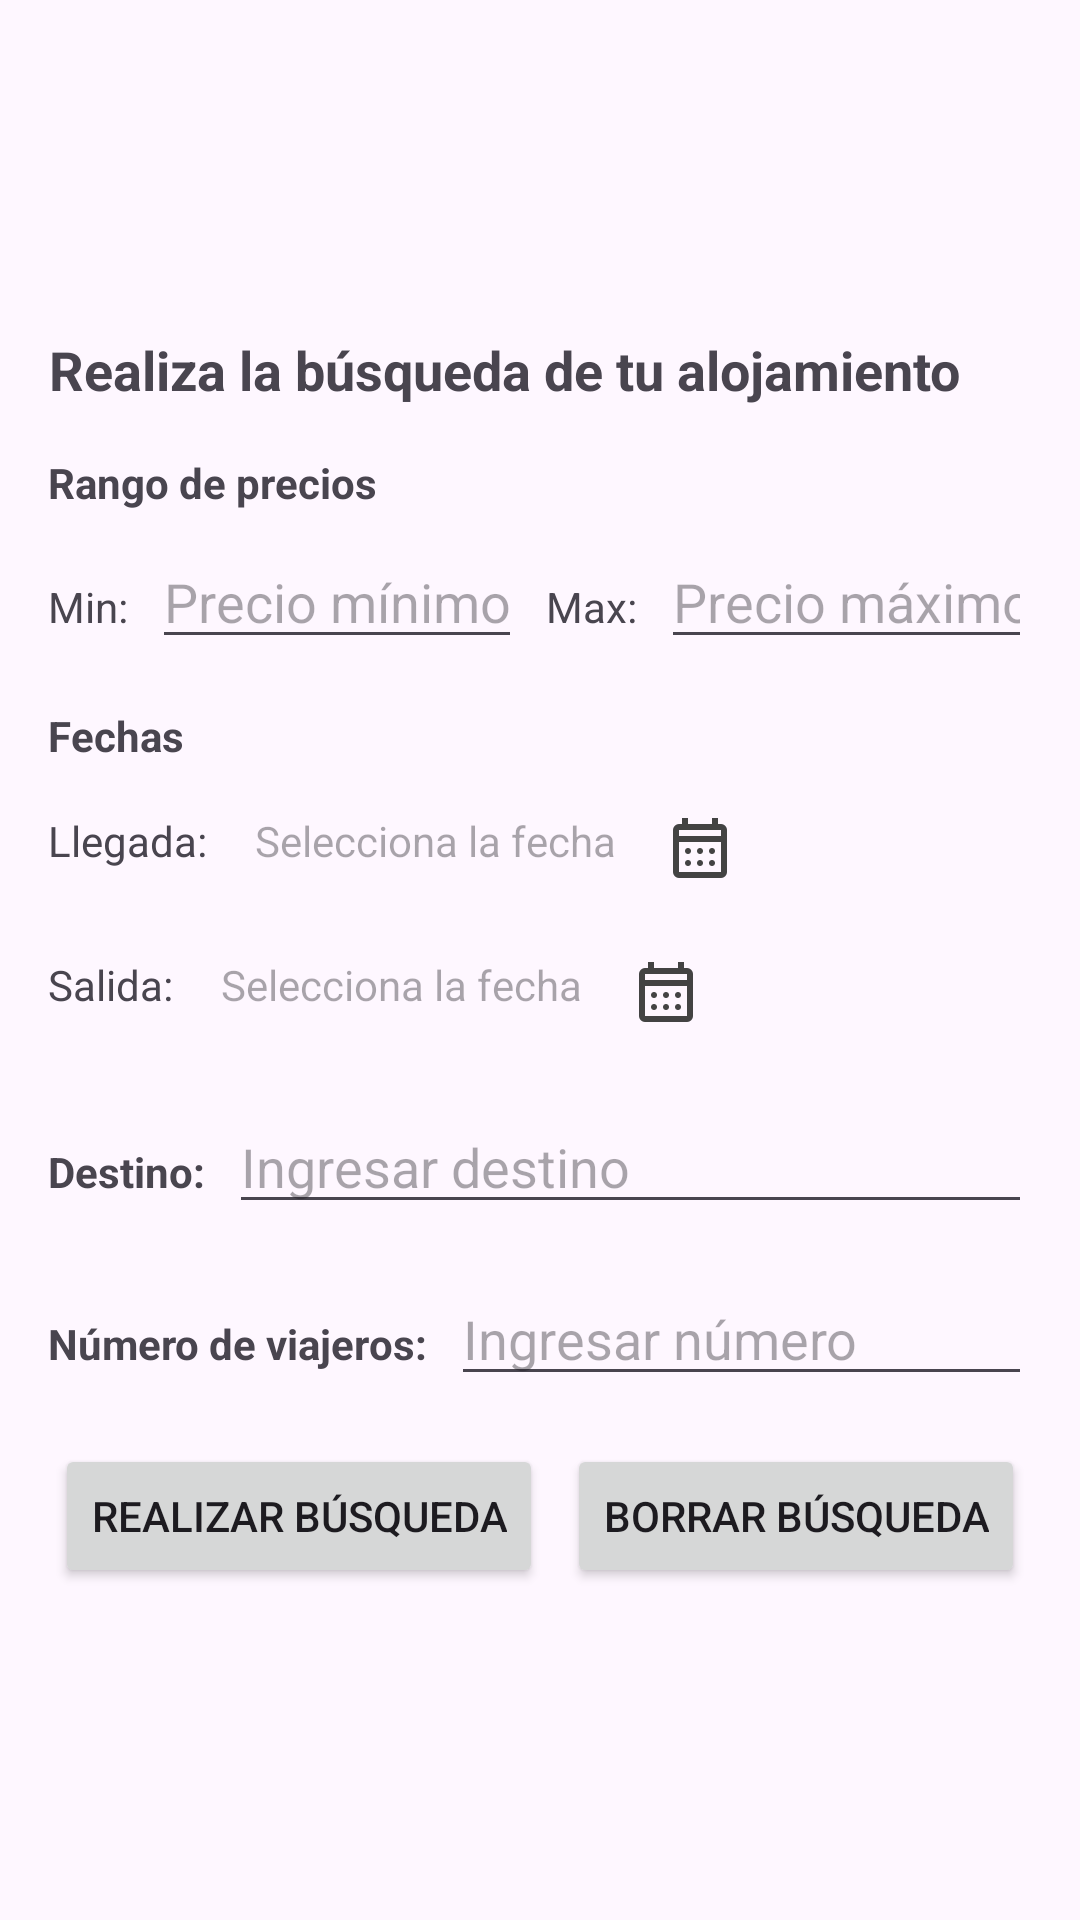

Icons on this 1080 x 1920 Android screen, each with the point to tap as point (x, y):
calendar: point (700, 848), point (666, 992)
